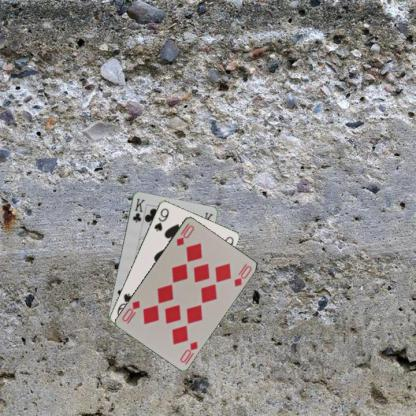10d: (173, 220, 196, 247), (177, 339, 199, 364)
9s: (151, 205, 170, 232)
Kc: (130, 196, 146, 223)
